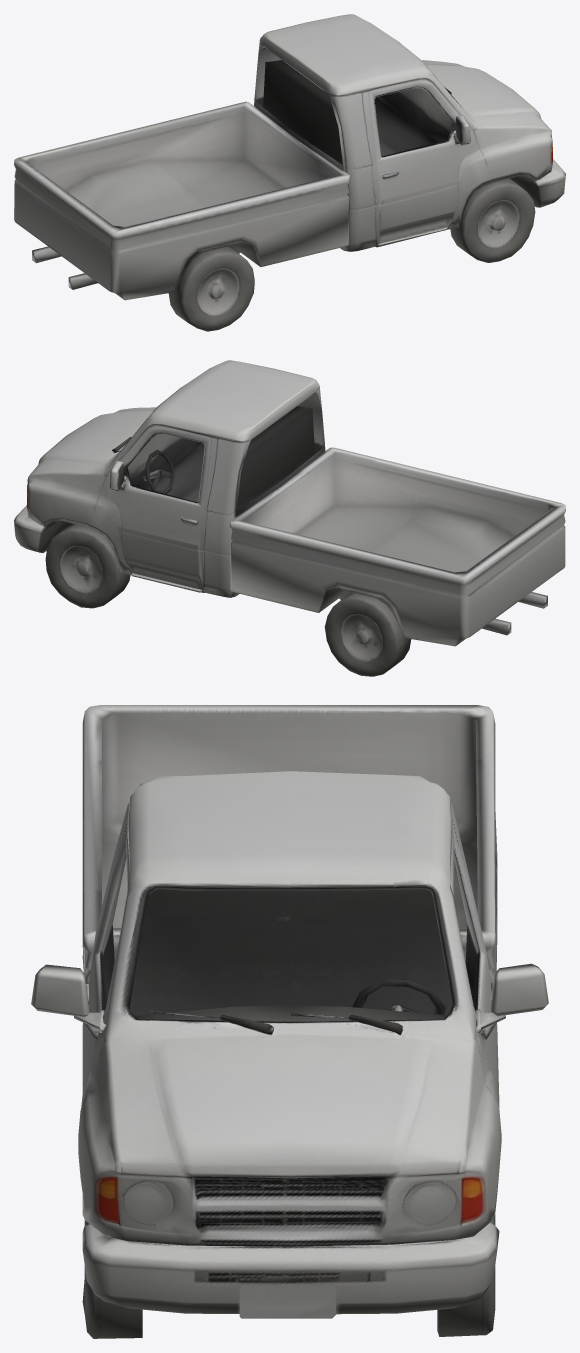
File: pickup.glb
3 renders of one model, top to bottom at view 1: azimuth 30°, elevation 25°; view 2: azimuth 150°, elevation 25°; view 3: azimuth 270°, elevation 25°, orthographic. The views are drawn at different scales.
Visible parts, largest first — view 1: tripo_node_0a49dccc-bf9c-4ad9-b49b-23f7d7a97cfa; view 2: tripo_node_0a49dccc-bf9c-4ad9-b49b-23f7d7a97cfa; view 3: tripo_node_0a49dccc-bf9c-4ad9-b49b-23f7d7a97cfa.
Part boxes in pixels (x1,y1,x2,y2): tripo_node_0a49dccc-bf9c-4ad9-b49b-23f7d7a97cfa: [14, 14, 565, 331]; tripo_node_0a49dccc-bf9c-4ad9-b49b-23f7d7a97cfa: [14, 360, 565, 676]; tripo_node_0a49dccc-bf9c-4ad9-b49b-23f7d7a97cfa: [31, 705, 548, 1338].
Bounding box in the file's own units: 0.998 × 0.4121 × 0.4707.
1 material, 1 textured.
